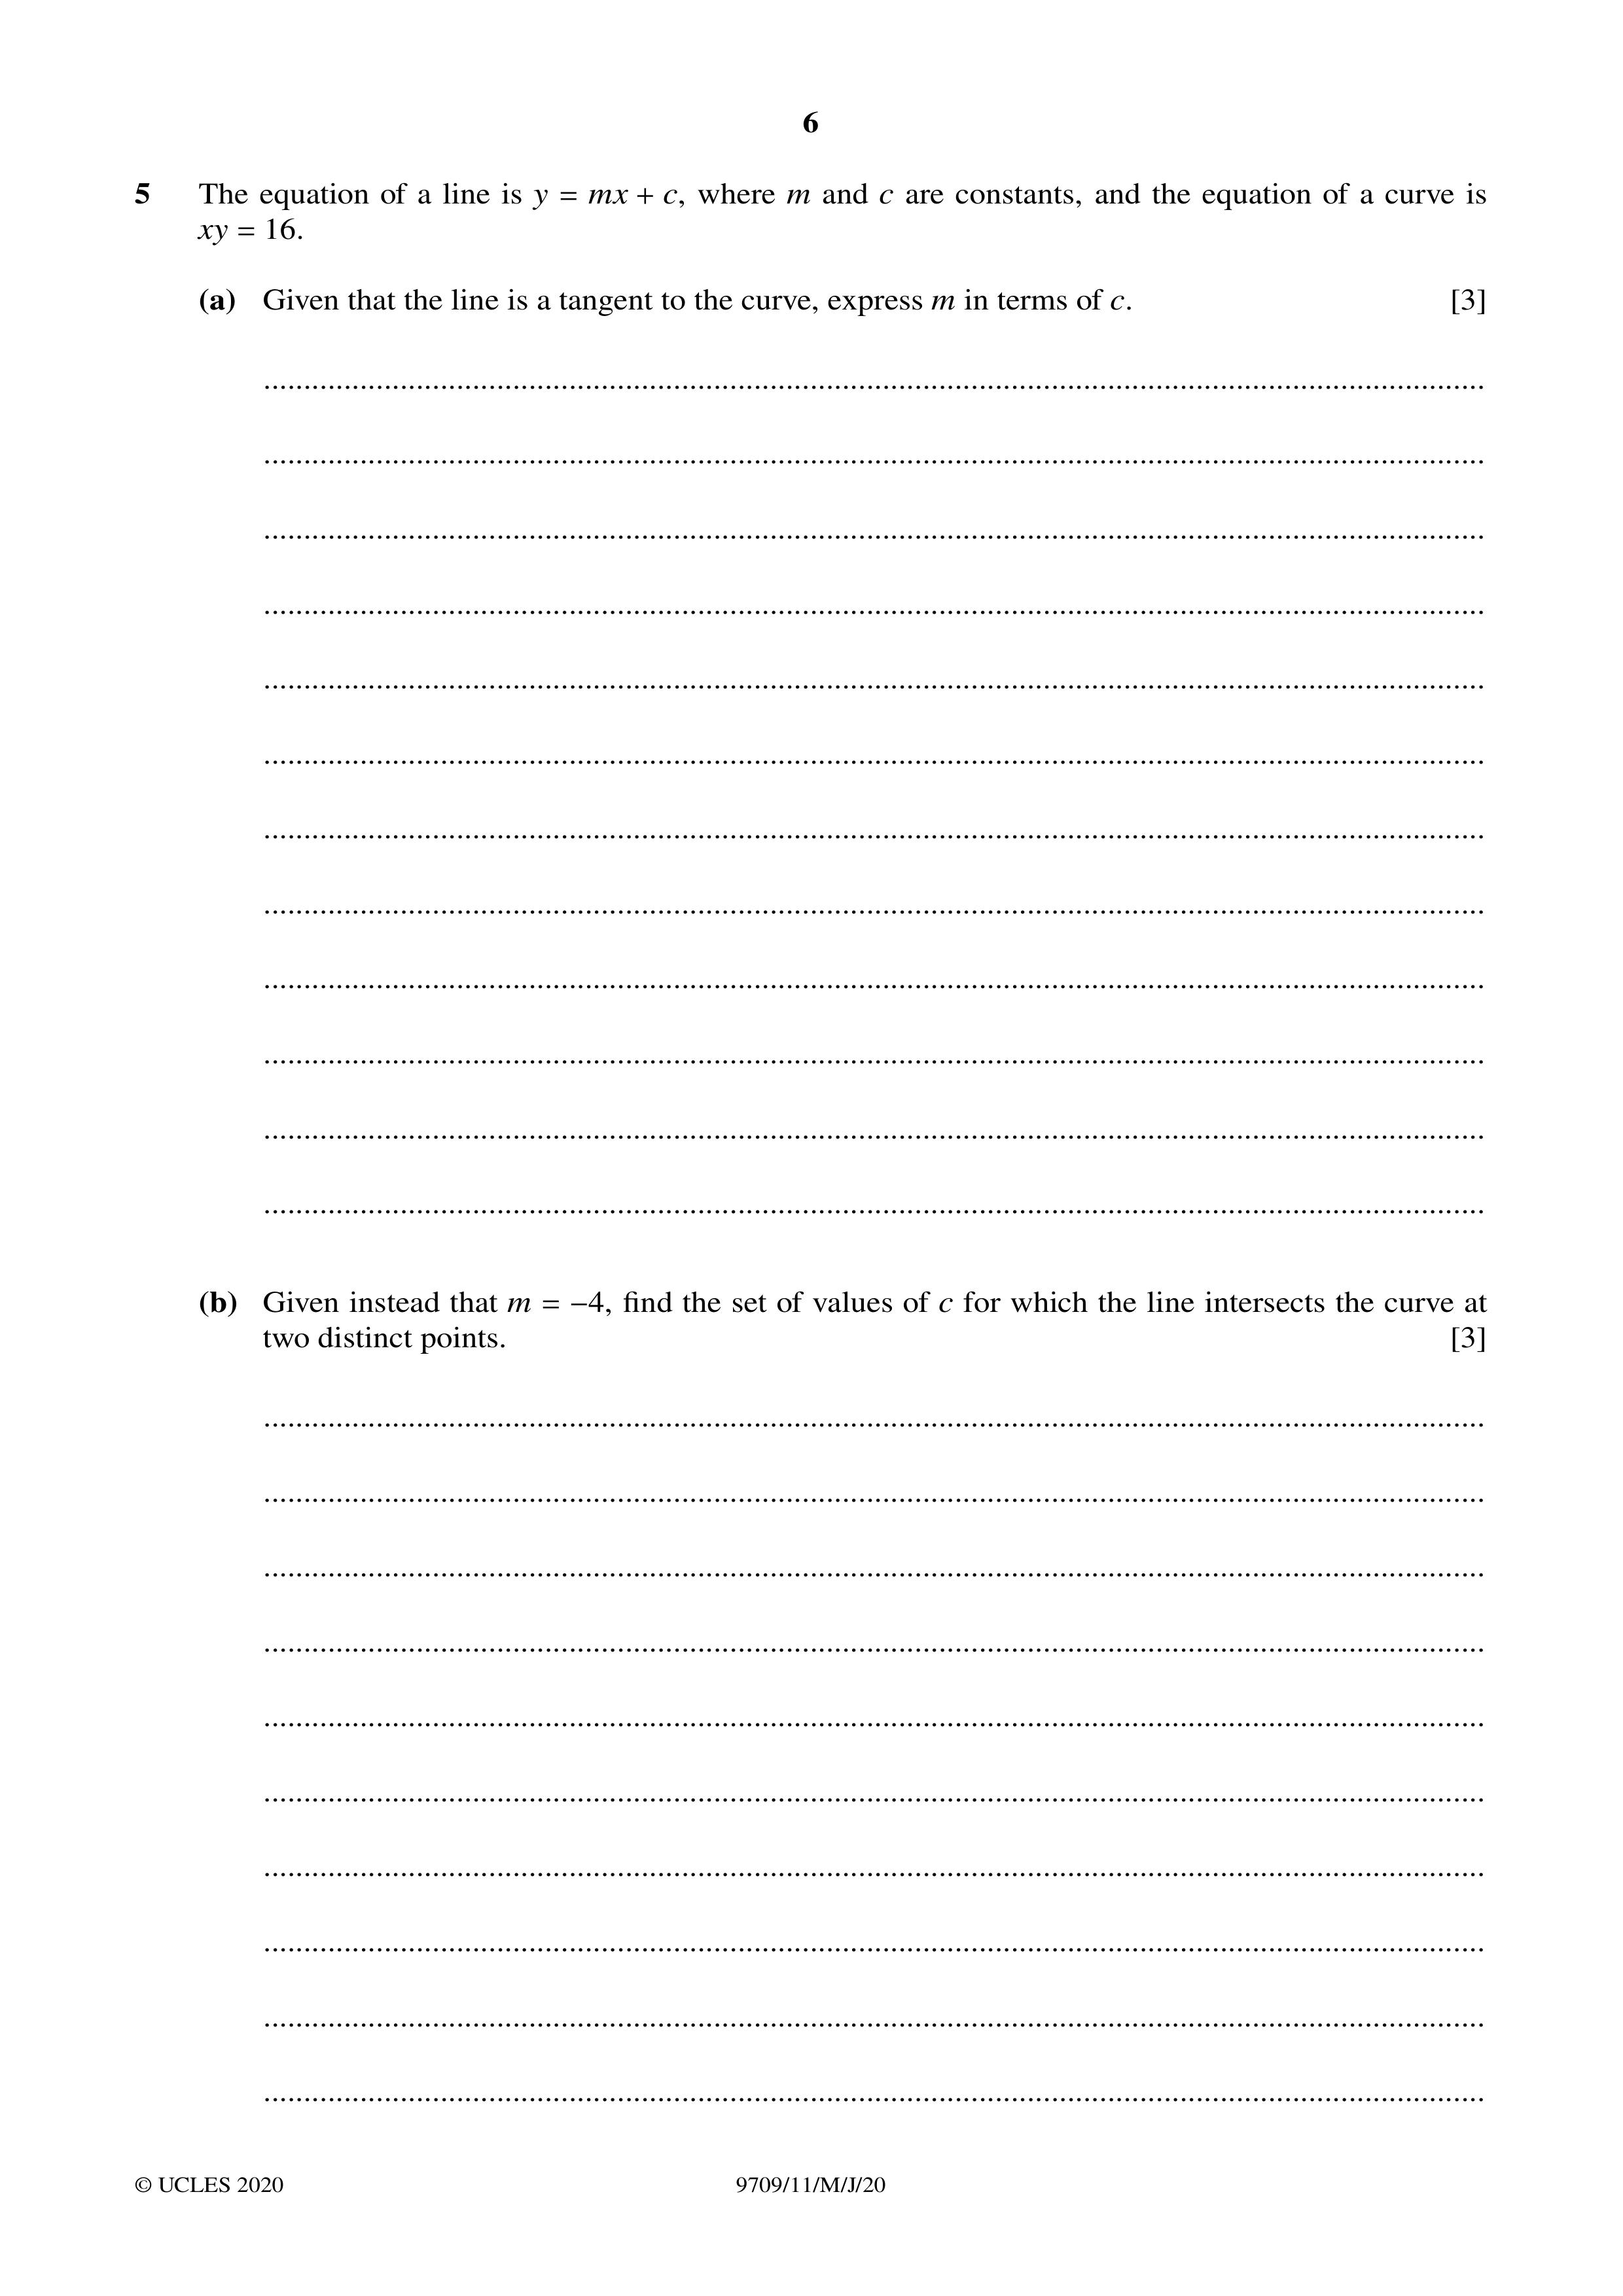question: (111, 142, 1533, 353), (148, 1231, 1516, 1403)
